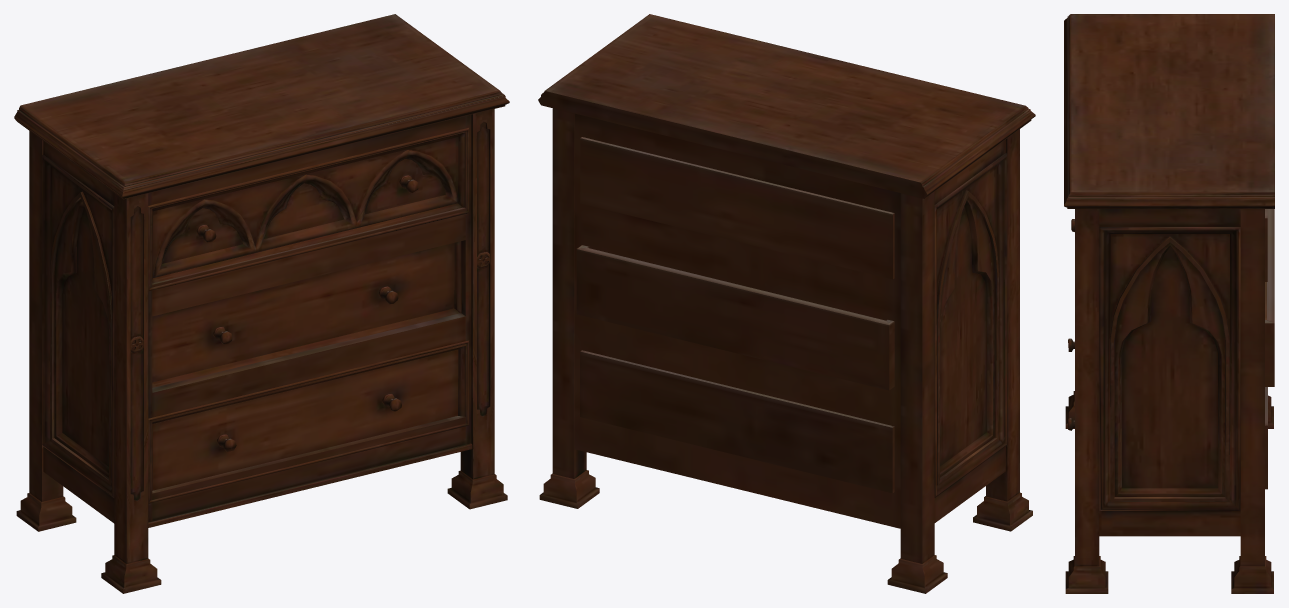
The model's file is GothicCommode_01.glb.
3 renders of one model, left to right at view 1: azimuth 30°, elevation 25°; view 2: azimuth 150°, elevation 25°; view 3: azimuth 270°, elevation 25°, orthographic. The views are drawn at different scales.
Parts seen in each view (by area): view 1: GothicCommode_01, GothicCommode_01_door01, GothicCommode_01_door03, GothicCommode_01_door02; view 2: GothicCommode_01, GothicCommode_01_door02, GothicCommode_01_door03, GothicCommode_01_door01; view 3: GothicCommode_01, GothicCommode_01_door02, GothicCommode_01_door03.
Part boxes in pixels (bbox=[...]): GothicCommode_01: bbox=[14, 14, 509, 593]; GothicCommode_01_door01: bbox=[148, 127, 469, 291]; GothicCommode_01_door03: bbox=[148, 340, 469, 503]; GothicCommode_01_door02: bbox=[152, 241, 461, 387]; GothicCommode_01: bbox=[538, 14, 1035, 593]; GothicCommode_01_door02: bbox=[576, 245, 894, 390]; GothicCommode_01_door03: bbox=[580, 350, 894, 493]; GothicCommode_01_door01: bbox=[580, 137, 894, 279]; GothicCommode_01: bbox=[1064, 14, 1274, 593]; GothicCommode_01_door02: bbox=[1265, 209, 1274, 386]; GothicCommode_01_door03: bbox=[1068, 338, 1267, 489].
Bounding box in the file's own units: 1.2 × 1.21 × 0.5806.
Materials: 1 (1 with a texture image).
